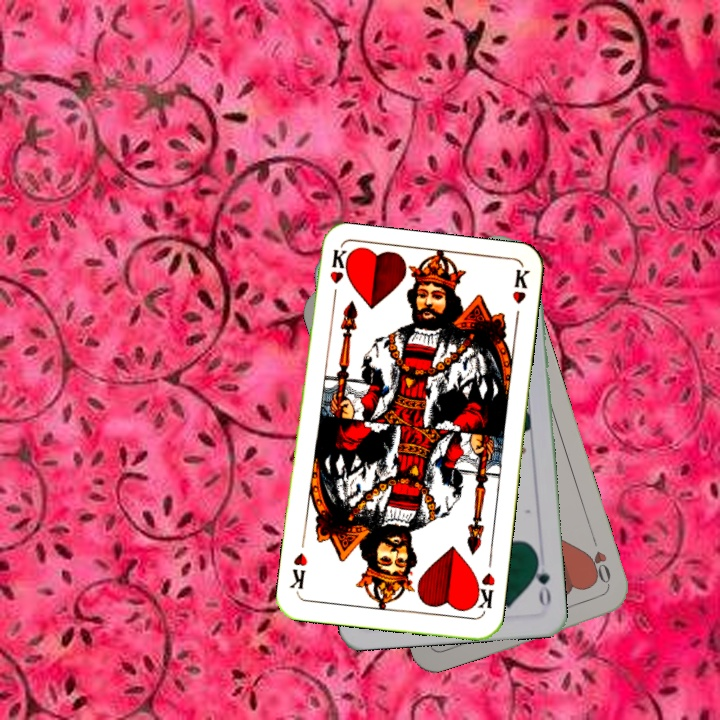GO: (529, 552, 554, 608)
HK: (325, 246, 349, 306), (469, 569, 498, 615)
HO: (581, 532, 614, 590)
